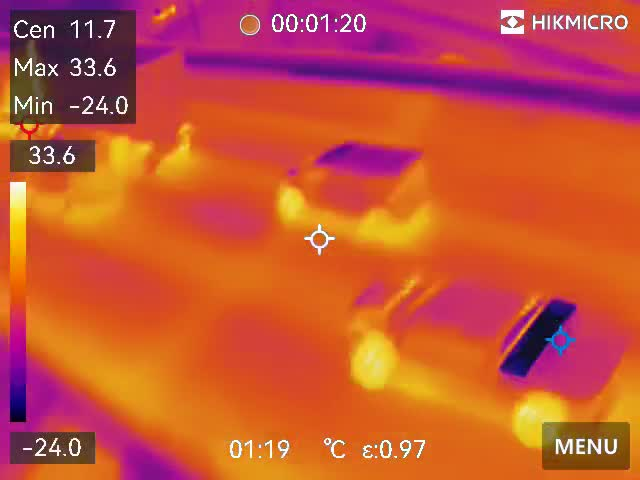lightTruck: (338, 262, 640, 446)
smallCar: (267, 135, 443, 248)
